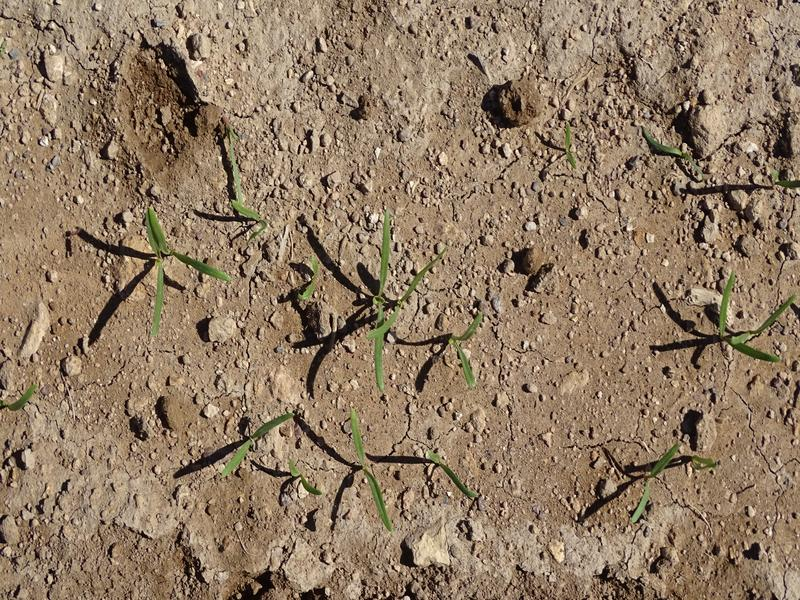Espinaca: (135, 204, 230, 346), (708, 268, 798, 365), (345, 406, 399, 534), (370, 206, 406, 394), (219, 407, 297, 478), (627, 441, 688, 525), (231, 167, 271, 240), (452, 307, 484, 391)
